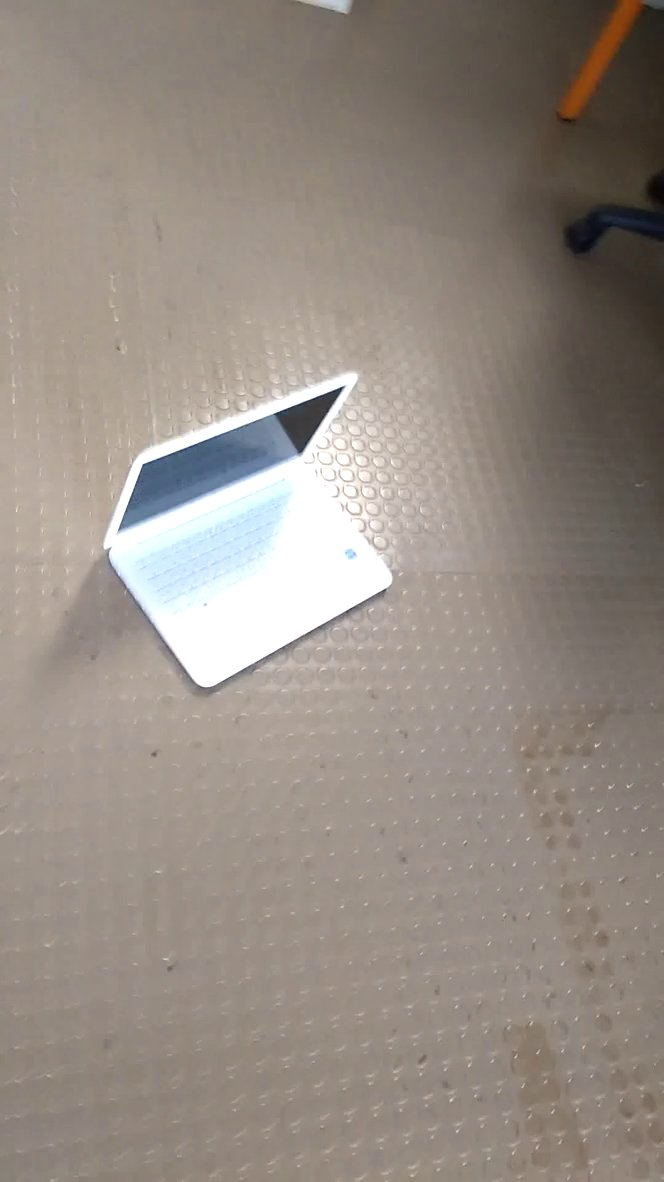laptop: (99, 364, 407, 700)
